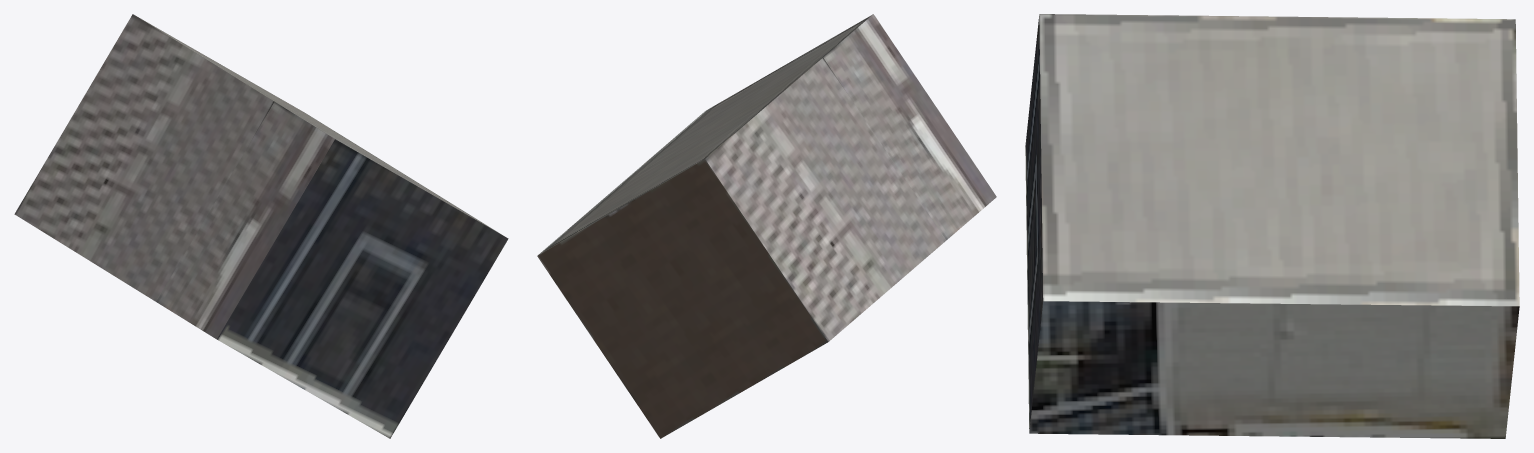
3 renders of one model, left to right at view 1: azimuth 30°, elevation 25°; view 2: azimuth 150°, elevation 25°; view 3: azimuth 270°, elevation 25°, orthographic. The views are drawn at different scales.
Parts seen in each view (by area): view 1: BAG_0599100100019945 (×2); view 2: BAG_0599100100019945 (×2); view 3: BAG_0599100100019945.
Boxes of the visible parts, box(x1,y1,x2,y2) form: BAG_0599100100019945 (×2): box(14, 14, 508, 438); BAG_0599100100019945 (×2): box(537, 14, 996, 438); BAG_0599100100019945: box(1025, 14, 1519, 438).
Size of the model in its own units: 2.87 by 2.81 by 3.14.
2 materials, 2 textured.
